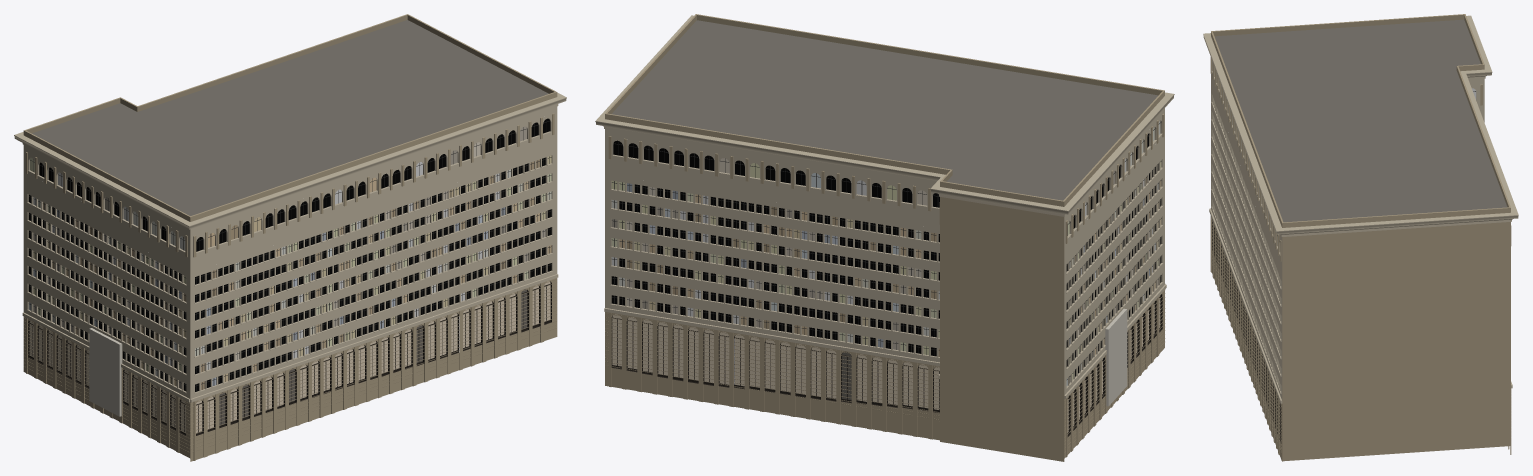
File: mills_lod0.glb
3 views of the same model, side by side, from view 1: azimuth 30°, elevation 25°; view 2: azimuth 150°, elevation 25°; view 3: azimuth 270°, elevation 25° (orthographic). The views are drawn at different scales.
Visible parts, largest first — view 1: L0_stone, L0_roof, L0_win, L0_metal, L0_shop, L0_granite; view 2: L0_stone, L0_roof, L0_win, L0_shop, L0_metal, L0_granite; view 3: L0_stone, L0_roof, L0_metal.
Boxes of the visible parts, x1,y1,x2,y2 form: L0_stone: [14, 14, 566, 461]; L0_roof: [32, 20, 548, 215]; L0_win: [28, 118, 551, 391]; L0_metal: [28, 119, 551, 435]; L0_shop: [29, 281, 550, 432]; L0_granite: [89, 328, 122, 416]; L0_stone: [595, 14, 1174, 461]; L0_roof: [611, 20, 1158, 200]; L0_win: [611, 121, 1161, 385]; L0_shop: [612, 296, 1160, 432]; L0_metal: [611, 122, 1162, 437]; L0_granite: [1105, 308, 1127, 406]; L0_stone: [1203, 14, 1518, 461]; L0_roof: [1214, 19, 1507, 222]; L0_metal: [1212, 91, 1475, 443].
Bounding box in the file's own units: 95.32 × 51.25 × 58.94.
